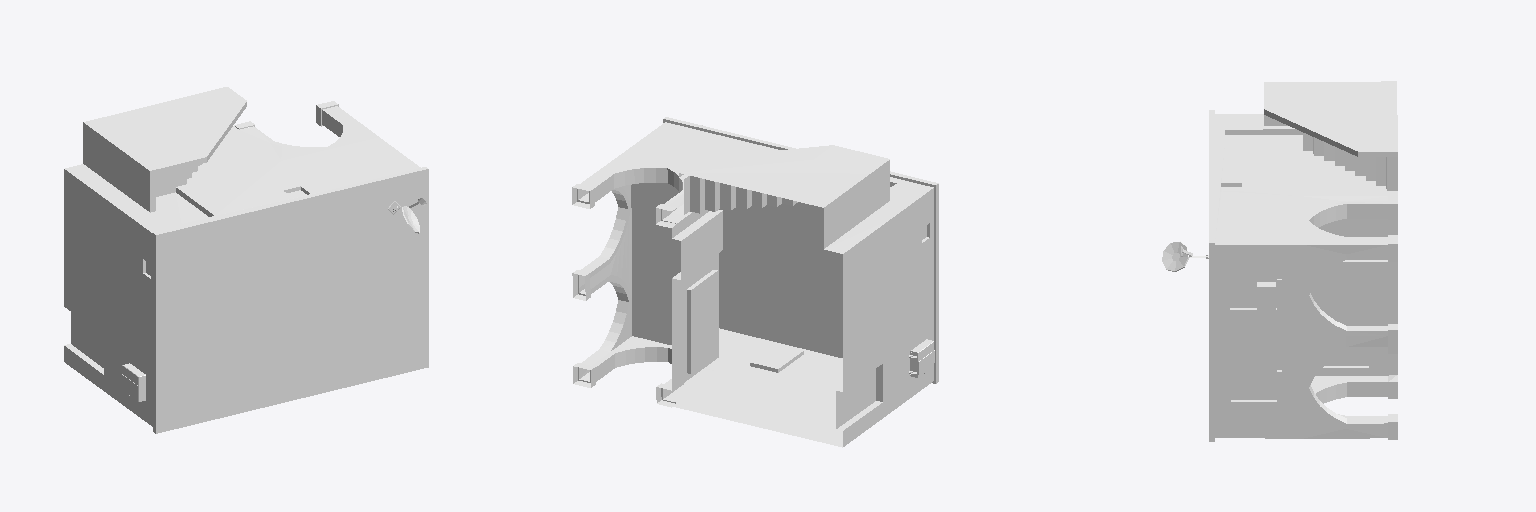
The model's file is building6.obj.
3 renders of one model, left to right at view 1: azimuth 30°, elevation 25°; view 2: azimuth 150°, elevation 25°; view 3: azimuth 270°, elevation 25°, orthographic.
Visible parts, largest first — view 1: Building6_011; view 2: Building6_011; view 3: Building6_011.
Boxes of the visible parts, <box> form: Building6_011: <box>64,87,428,433</box>; Building6_011: <box>572,117,938,447</box>; Building6_011: <box>1162,81,1397,441</box>.
Bounding box in the file's own units: 9.38 × 7.49 × 6.74.